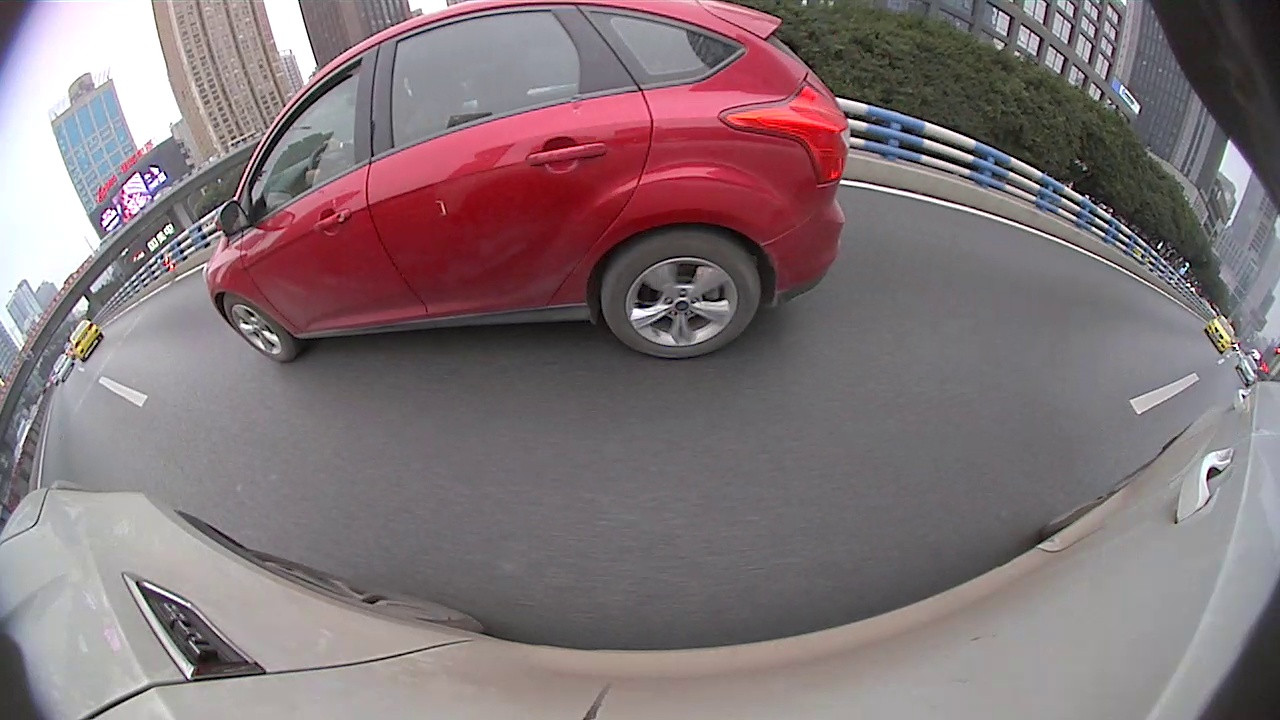car: (1052, 230, 1277, 424), (301, 136, 536, 274), (766, 132, 933, 233), (618, 137, 713, 211), (730, 145, 798, 192), (516, 152, 576, 198), (703, 159, 734, 188), (571, 160, 597, 188)
front: (1071, 271, 1131, 339), (763, 173, 781, 206), (519, 183, 534, 219)
person: (1018, 198, 1030, 242), (987, 189, 998, 229), (969, 187, 980, 225), (953, 183, 963, 220)
rear: (444, 200, 475, 256), (820, 184, 844, 223)
